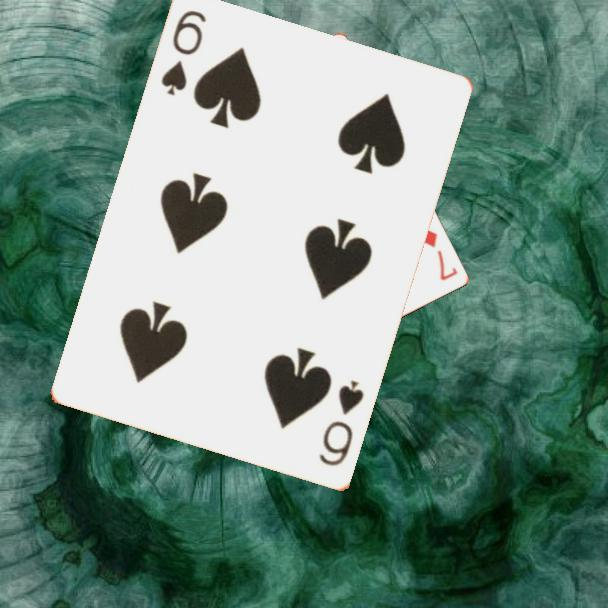d07: (419, 225, 461, 284)
s06: (316, 377, 368, 470), (158, 7, 210, 99)
